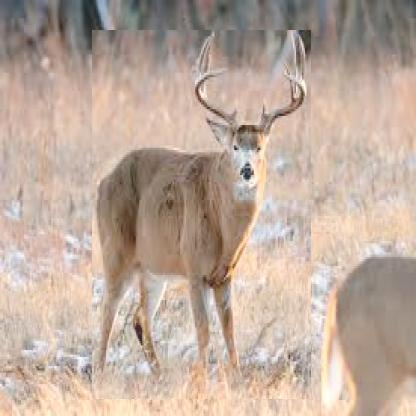Deer: (92, 30, 311, 399)
